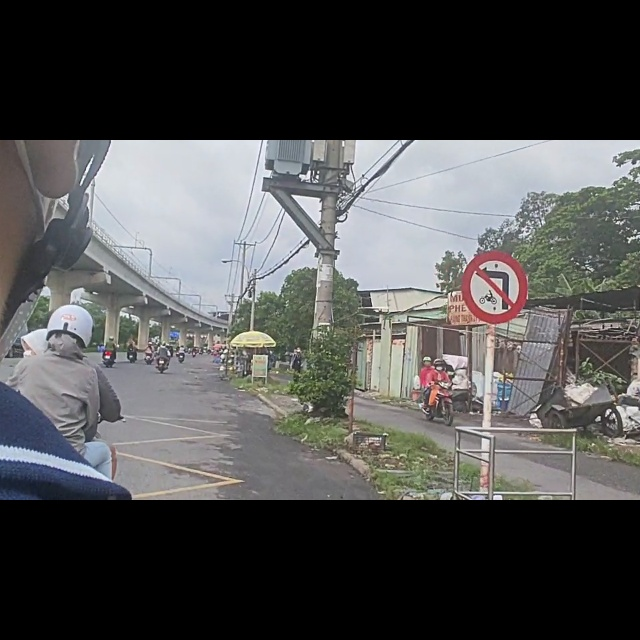bien_cam: (460, 193, 532, 331)
